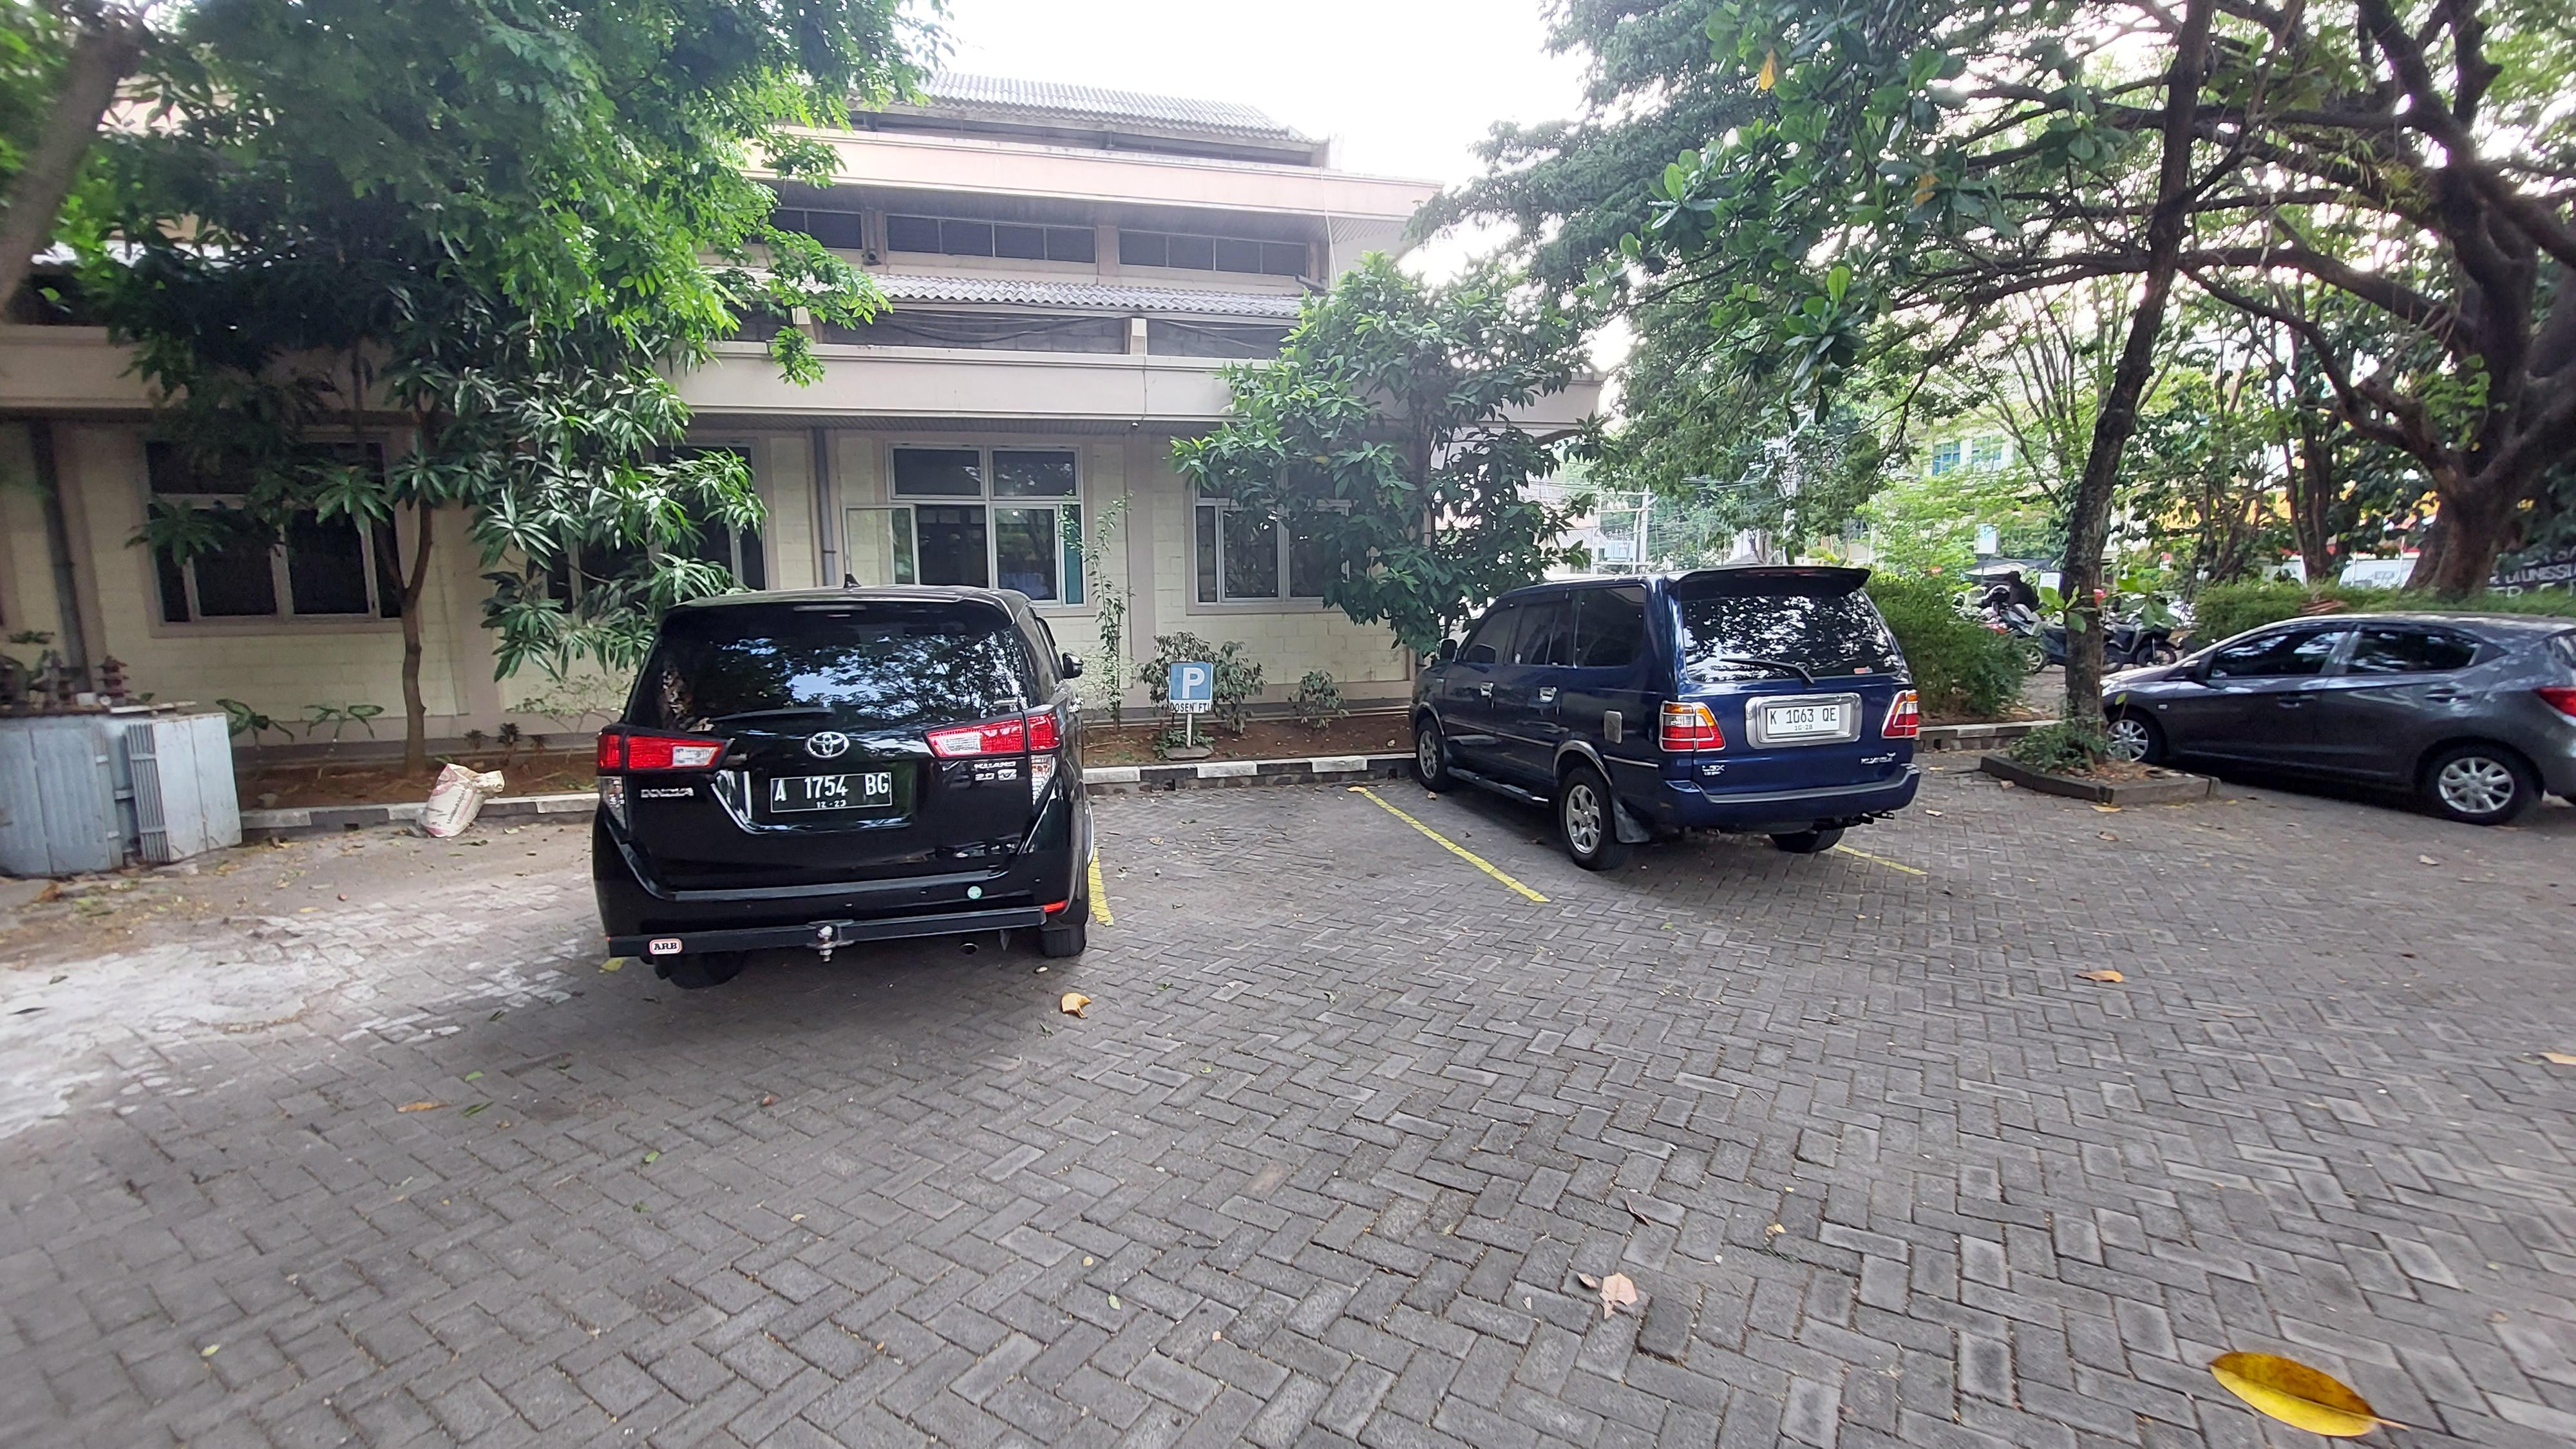empty: (1090, 790, 1559, 945), (1879, 753, 2231, 876)
occupied: (589, 588, 1099, 996), (1347, 565, 1928, 904)
